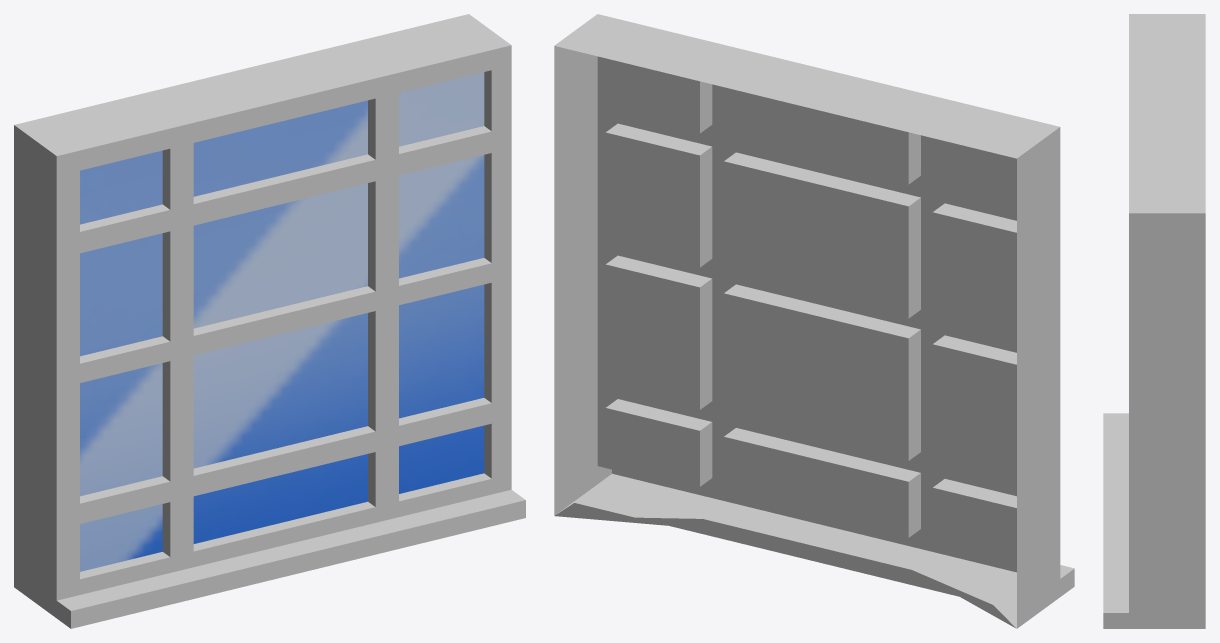
File: window_10.fbx
3 views of the same model, side by side, from view 1: azimuth 30°, elevation 25°; view 2: azimuth 150°, elevation 25°; view 3: azimuth 270°, elevation 25° (orthographic). The views are drawn at different scales.
Parts seen in each view (by area): view 1: pPlane7_Ext_1, pPlane7; view 2: pPlane7_Ext_1; view 3: pPlane7_Ext_1.
Boxes of the visible parts, <box> form: pPlane7_Ext_1: <box>14,14,525,628</box>; pPlane7: <box>80,72,484,571</box>; pPlane7_Ext_1: <box>554,14,1074,628</box>; pPlane7_Ext_1: <box>1103,14,1205,628</box>.
Size of the model in its own units: 216 by 210 by 46.92.
